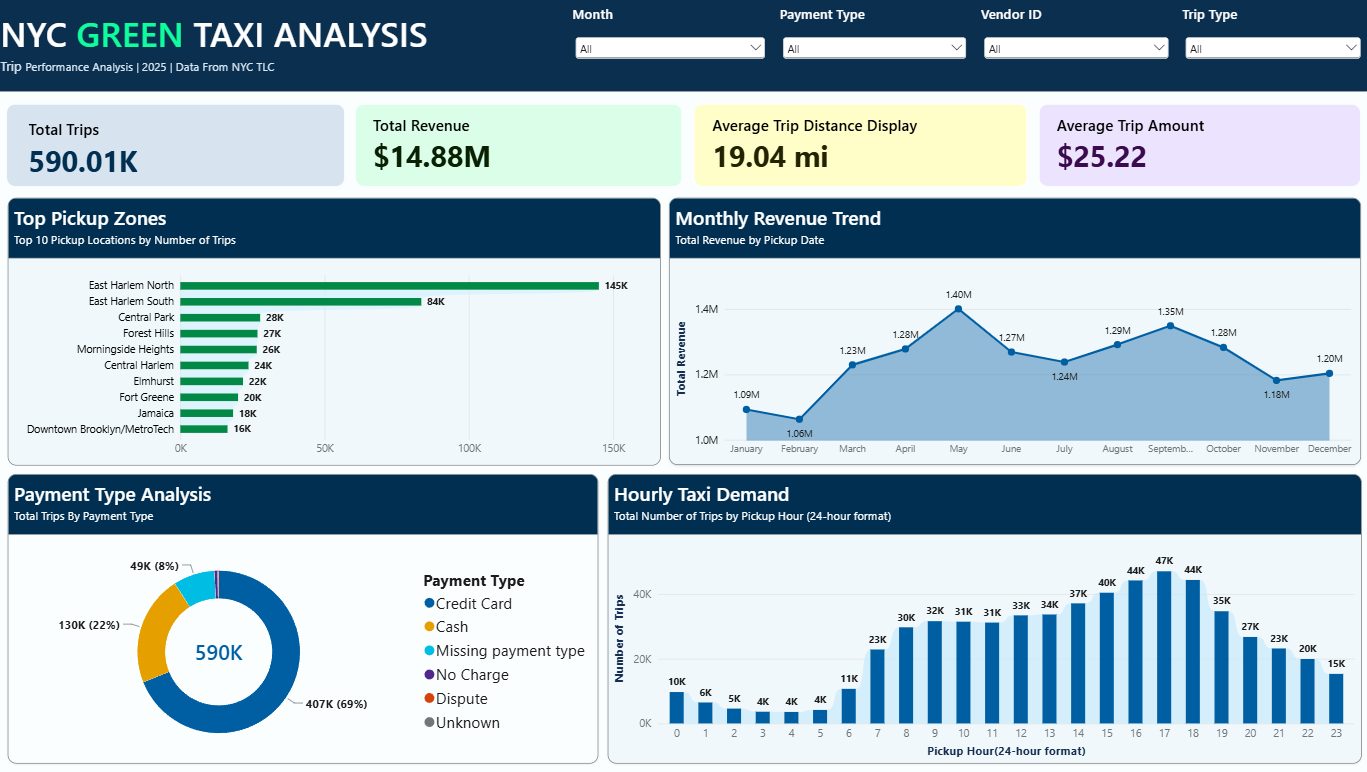

What the dashboard file says about the page in this screenshot:
{"tool":"powerbi","page":{"name":"Page 1","canvas":[1920,1080],"ordinal":0},"visuals":[{"type":"columnChart","title":"Hourly Taxi Demand","fields":{"Category":["silver_trips.pickup_hour"],"Y":["dim_date.Total Trips"]},"box":[855.9,663.3,1051.9,403.7],"z":0},{"type":"lineChart","title":"Monthly Revenue Trend","fields":{"Category":["dim_date.pickup_date.Variation.Date Hierarchy.Month","dim_date.pickup_date.Variation.Date Hierarchy.Day"],"Y":["dim_date.Total Revenue"]},"box":[942,277.4,965.4,372.8],"z":1000},{"type":"donutChart","title":"Payment Type Analysis","fields":{"Category":["dim_payment_type.payment_type_name"],"Y":["dim_date.Total Trips"]},"box":[18.4,663.3,824.1,403.7],"z":2000},{"type":"cardVisual","fields":{"Data":["dim_date.Total Trips"]},"box":[18,145.9,471.9,115.3],"z":3000},{"type":"cardVisual","fields":{"Data":["dim_date.Total Revenue"]},"box":[504.3,145.9,455.7,115.3],"z":4000},{"type":"cardVisual","fields":{"Data":["dim_date.Average Trip Distance Display"]},"box":[976.2,145.9,464.7,115.3],"z":5000},{"type":"cardVisual","fields":{"Data":["dim_date.Average Trip Amount"]},"box":[1458.9,145.9,448.5,115.3],"z":6000},{"type":"textbox","box":[0,0,1920,129.7],"z":7000},{"type":"barChart","title":"Top Pickup Zones","fields":{"Category":["dim_location.Zone"],"Y":["dim_date.Total Trips"]},"box":[18.4,278,911.2,373.5],"z":8000},{"type":"slicer","title":"Month","fields":{"Values":["dim_date.month_name"]},"box":[798.5,0,290,88.1],"z":9000},{"type":"slicer","title":"Payment Type","fields":{"Values":["dim_payment_type.payment_type_name"]},"box":[1088.5,0,280.8,88.1],"z":10000},{"type":"slicer","title":"Vendor ID","fields":{"Values":["dim_vendor.VendorID"]},"box":[1369.3,0,282.7,88.1],"z":11000},{"type":"slicer","title":"Trip Type","fields":{"Values":["dim_trip_type.trip_type"]},"box":[1650.2,0,269.8,88.1],"z":12000}]}

Visuals, with their boxes in screenshot pixels (x1, y1, x2, y2), scaled from the page's 1920x1080 canvas onto the 1367x772 screenshot:
"Hourly Taxi Demand" columnChart: rect(609, 474, 1358, 763)
"Monthly Revenue Trend" lineChart: rect(671, 198, 1358, 465)
"Payment Type Analysis" donutChart: rect(13, 474, 600, 763)
cardVisual - dim_date.Total Trips: rect(13, 104, 349, 187)
cardVisual - dim_date.Total Revenue: rect(359, 104, 684, 187)
cardVisual - dim_date.Average Trip Distance Display: rect(695, 104, 1026, 187)
cardVisual - dim_date.Average Trip Amount: rect(1039, 104, 1358, 187)
textbox: rect(0, 0, 1366, 93)
"Top Pickup Zones" barChart: rect(13, 199, 662, 466)
"Month" slicer: rect(569, 0, 775, 63)
"Payment Type" slicer: rect(775, 0, 975, 63)
"Vendor ID" slicer: rect(975, 0, 1176, 63)
"Trip Type" slicer: rect(1175, 0, 1366, 63)
